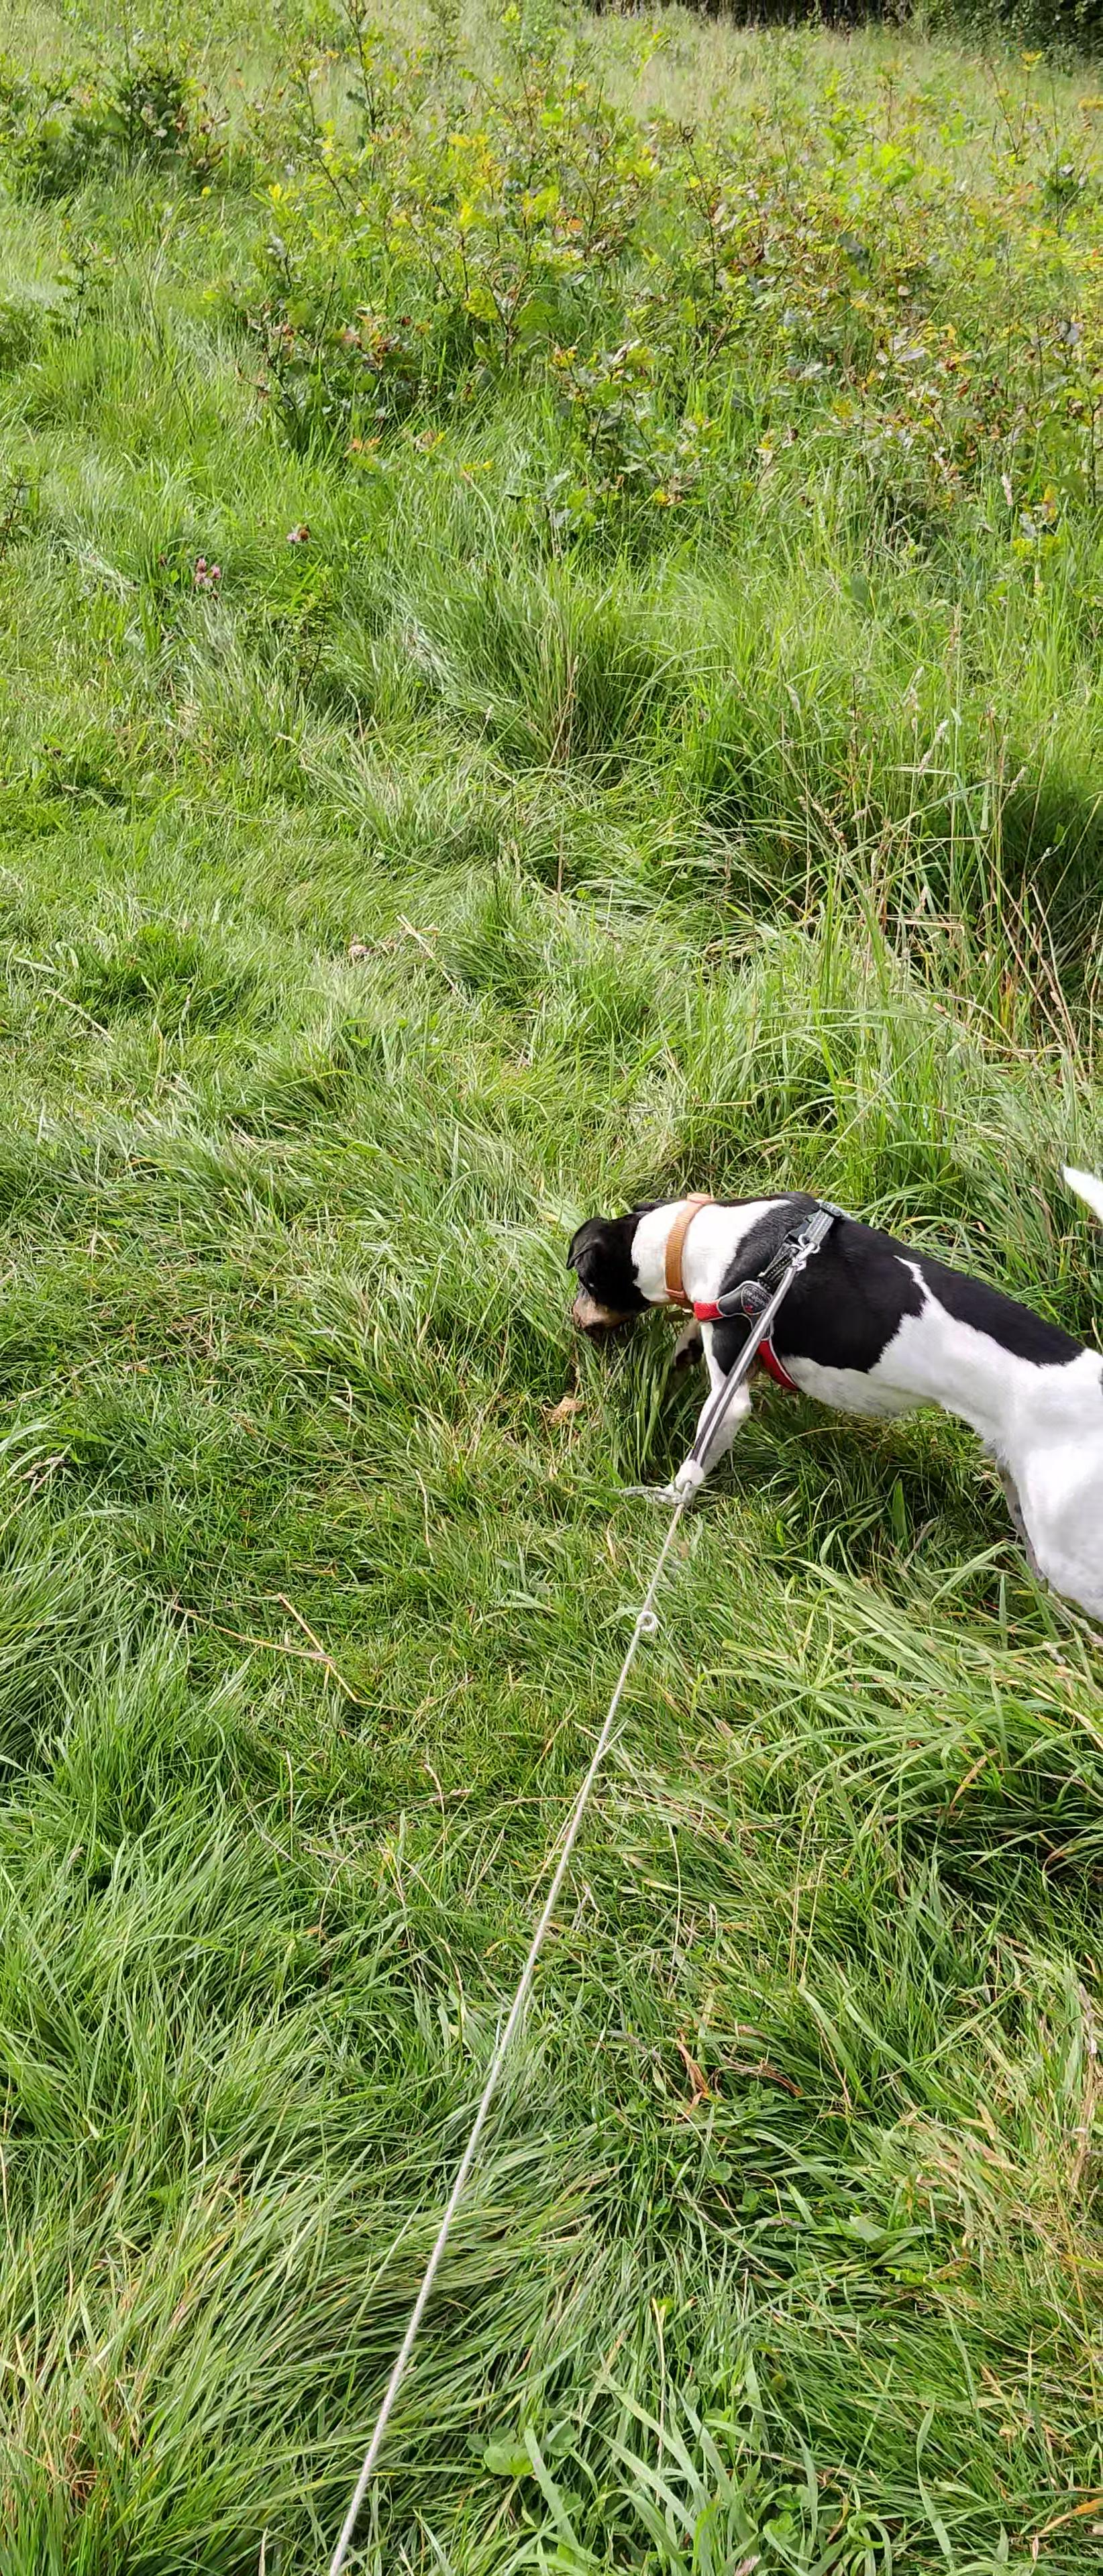Dog: (561, 1148, 1103, 1630)
